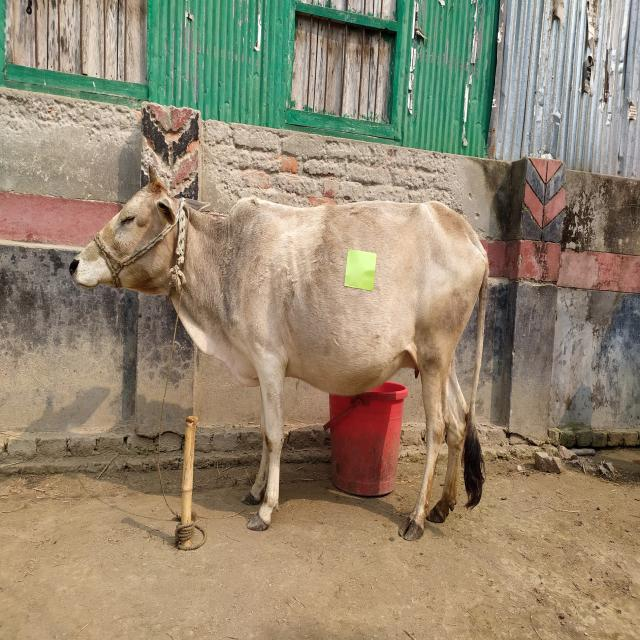badan_sapi: (236, 191, 490, 400)
sapi: (61, 158, 503, 549)
